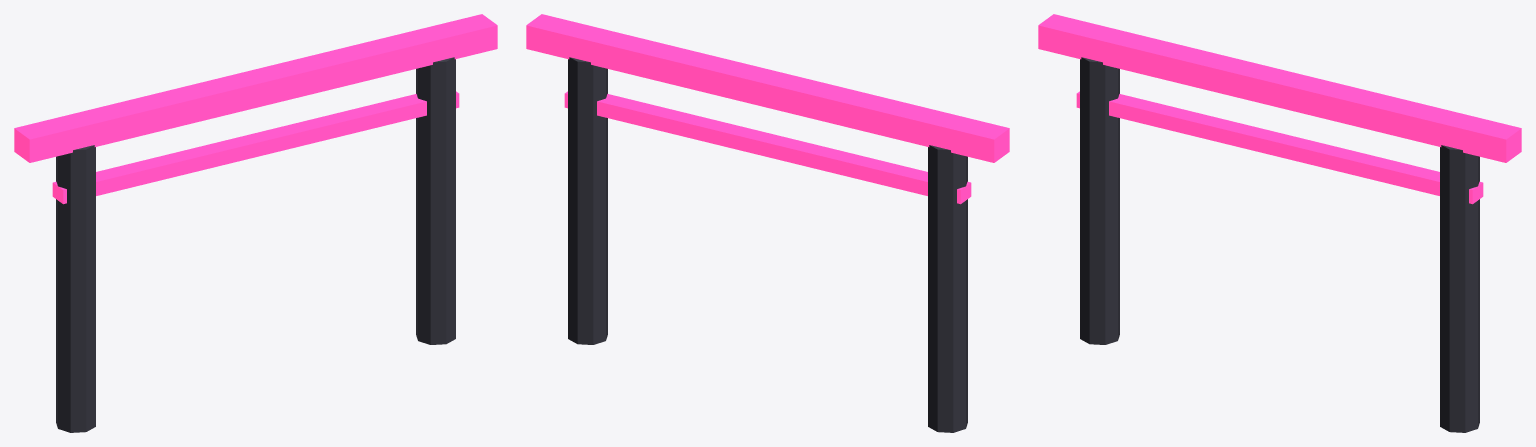
The model's file is prop_torii_gate.glb.
The picture shows the model from 3 angles, left to right: view 1: azimuth 30°, elevation 25°; view 2: azimuth 150°, elevation 25°; view 3: azimuth 330°, elevation 25°; orthographic projection.
Visible parts, largest first — view 1: Cube, Cylinder, Cylinder.001, Cube.001; view 2: Cube, Cylinder, Cylinder.001, Cube.001; view 3: Cube, Cylinder.001, Cylinder, Cube.001.
Boxes of the visible parts, bbox=[...] form: Cube: bbox=[14, 14, 497, 162]; Cylinder: bbox=[56, 145, 95, 432]; Cylinder.001: bbox=[416, 57, 455, 344]; Cube.001: bbox=[52, 91, 459, 204]; Cube: bbox=[526, 14, 1009, 162]; Cylinder: bbox=[928, 145, 967, 432]; Cylinder.001: bbox=[568, 57, 607, 344]; Cube.001: bbox=[564, 91, 971, 204]; Cube: bbox=[1038, 14, 1521, 162]; Cylinder.001: bbox=[1440, 145, 1479, 432]; Cylinder: bbox=[1080, 57, 1119, 344]; Cube.001: bbox=[1076, 91, 1483, 204].
Size of the model in its own units: 5.2 by 3.22 by 0.4.
